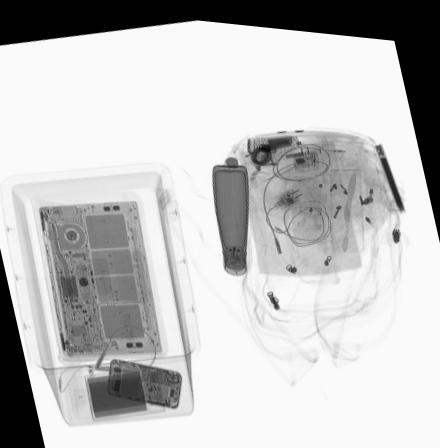Powerbank: (83, 362, 167, 422)
